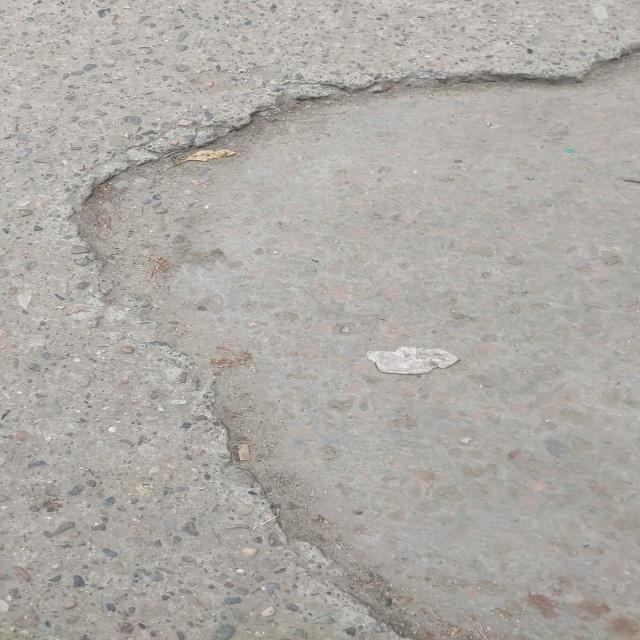Surface Erosion: (71, 50, 635, 640)
